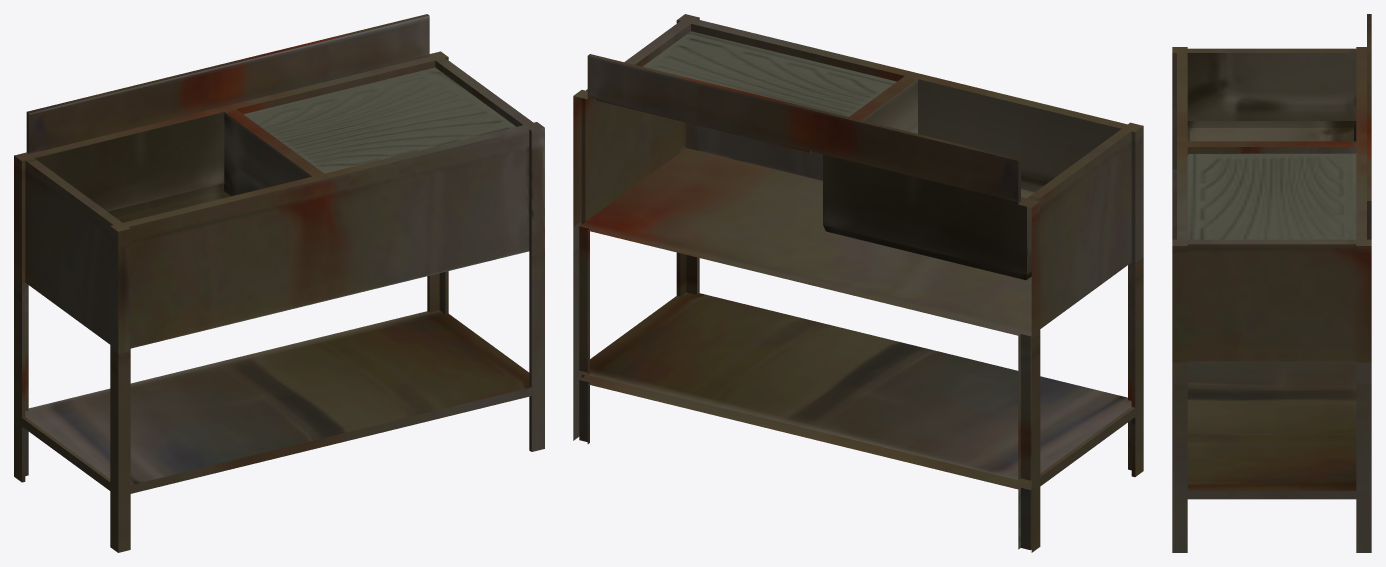
Rendered from kitchen_work_sink.FBX.
3 renders of one model, left to right at view 1: azimuth 30°, elevation 25°; view 2: azimuth 150°, elevation 25°; view 3: azimuth 270°, elevation 25°, orthographic. The views are drawn at different scales.
Parts seen in each view (by area): view 1: kitchen_work_sink; view 2: kitchen_work_sink; view 3: kitchen_work_sink.
Boxes of the visible parts, x1,y1,x2,y2 form: kitchen_work_sink: (14,14,544,552); kitchen_work_sink: (573,14,1143,552); kitchen_work_sink: (1172,14,1371,552).
Size of the model in its own units: 99.47 by 80.59 by 42.06.
